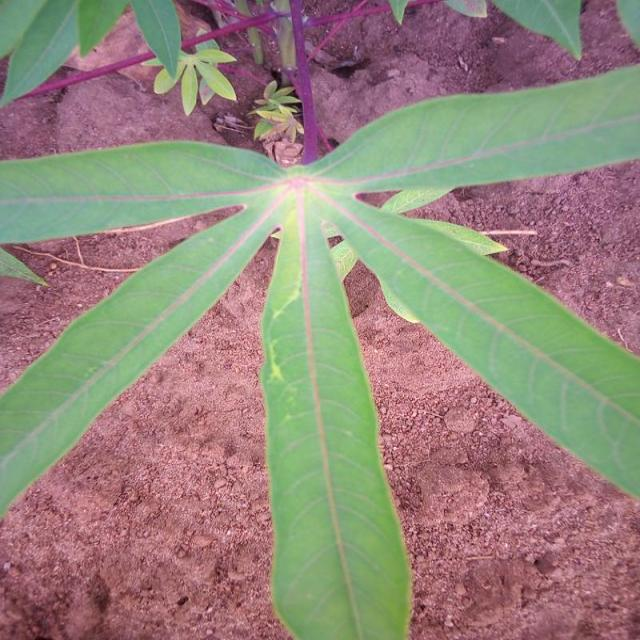cassava leaf: (0, 55, 638, 636), (258, 190, 414, 638)
